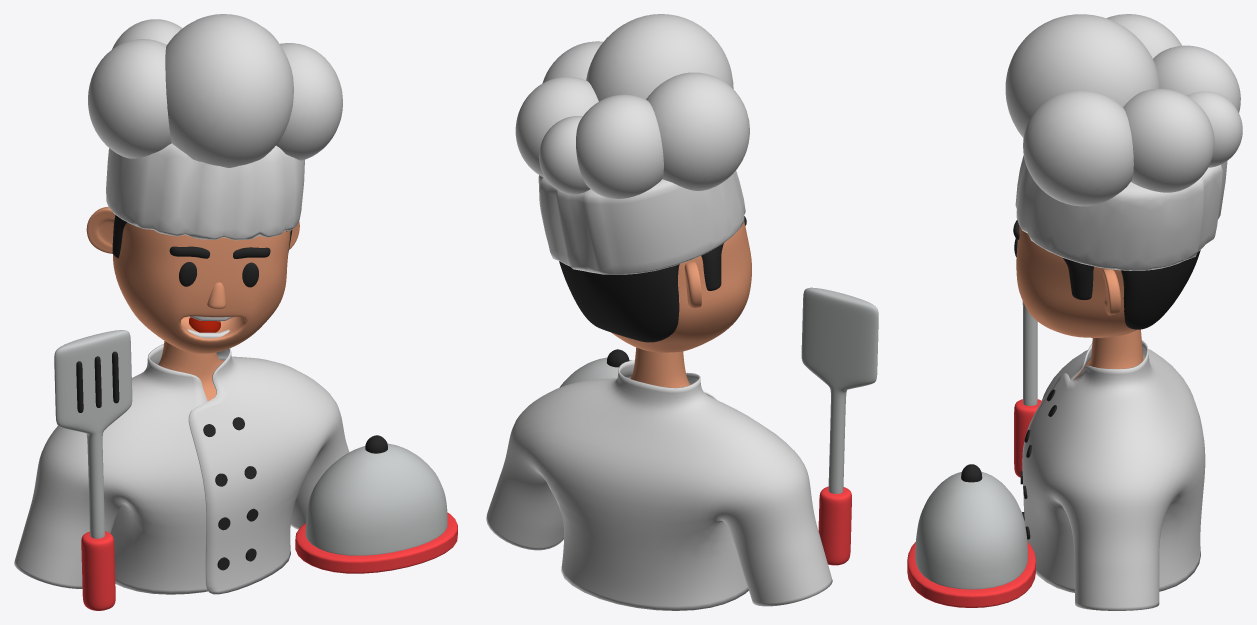
The model's file is male-chef-3d-animated-icon-415507662551.glb.
3 views of the same model, side by side, from view 1: azimuth 30°, elevation 25°; view 2: azimuth 150°, elevation 25°; view 3: azimuth 270°, elevation 25° (orthographic).
Visible parts, largest first — view 1: Body.001, Cube, Cube.005, Cube.009, Cube.002, Cube.008, Cube.001, Body, Cylinder.004, Eyebrow, Sphere.005; view 2: Body.001, Cube, Cube.002, Cube.011, Cube.005, Cube.001, Body, Cube.009; view 3: Cube, Body.001, Cube.009, Cube.005, Cube.011, Cube.008, Body, Cube.002, Cube.001.
Boxes of the visible parts, x1,y1,x2,y2 form: Body.001: (14,344,349,594); Cube: (88,14,342,240); Cube.005: (86,206,299,353); Cube.009: (305,443,447,555); Cube.002: (54,330,132,538); Cube.008: (295,512,457,573); Cube.001: (81,531,115,610); Body: (158,341,224,401); Cylinder.004: (203,417,258,570); Eyebrow: (169,246,270,258); Sphere.005: (179,262,258,287); Body.001: (486,360,832,610); Cube: (515,14,749,274); Cube.002: (801,287,878,493); Cube.011: (559,243,723,342); Cube.005: (611,221,751,352); Cube.001: (818,486,851,565); Body: (630,347,689,387); Cube.009: (559,357,631,387); Cube: (1005,14,1242,270); Body.001: (1022,340,1205,610); Cube.009: (915,472,1027,589); Cube.005: (1016,226,1136,337); Cube.011: (1063,250,1200,329); Cube.008: (907,542,1035,607); Body: (1074,329,1143,379); Cube.002: (1022,301,1037,405); Cube.001: (1014,399,1041,477).
Size of the model in its own units: 2.91 by 4.13 by 2.31.
